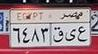3: (41, 26, 49, 43)
4: (21, 27, 30, 45)
6: (12, 26, 21, 44)
8: (31, 26, 40, 44)
ain: (77, 26, 88, 44)
qaaf: (53, 26, 63, 43)
yaa: (64, 28, 77, 43)
